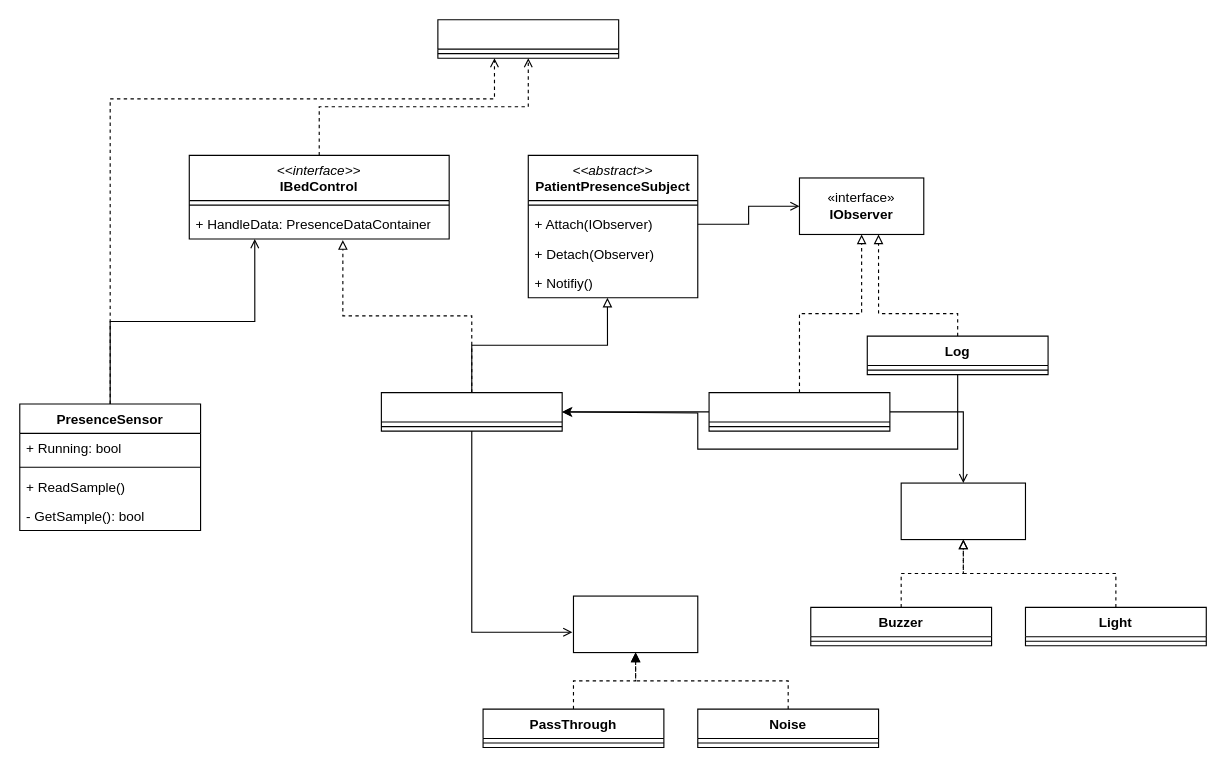
Image size: 1226x767. Some labels were removed from this diagram. Each missing label, with the centre of its shape:
Alarming: pixel 799 411
BedControl: pixel 471 411
PresenceDataContainer: pixel 528 38
«interface» IAlarm: pixel 962 511
«interface» IFilter: pixel 635 624
